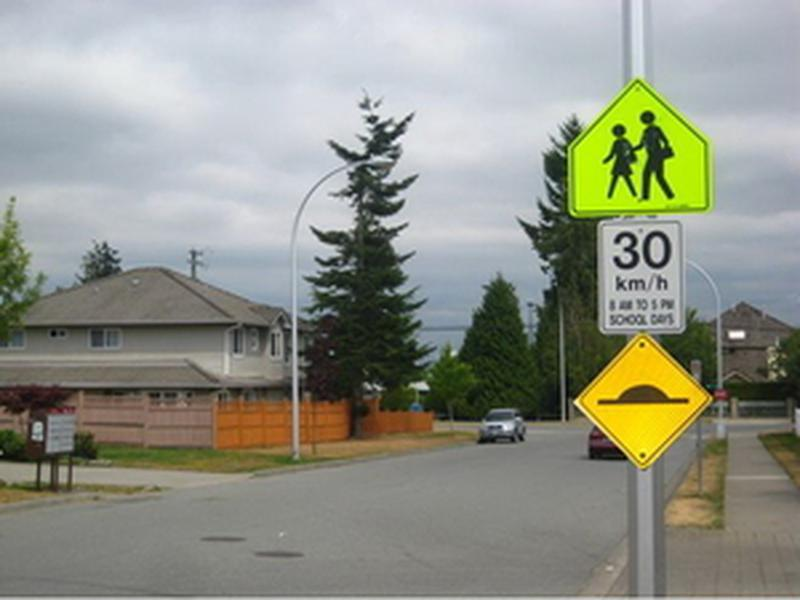slow: (564, 74, 715, 217)
